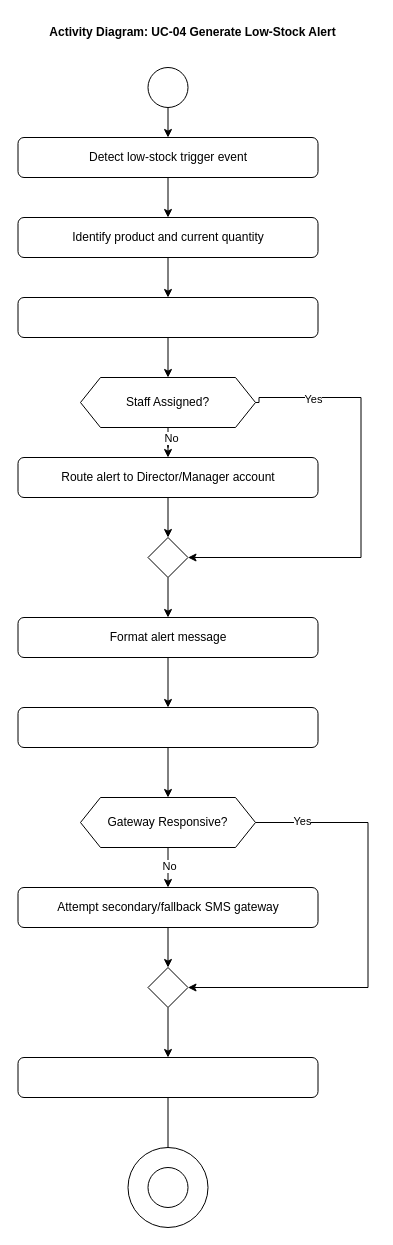
Some shapes in this 393 by 1245 pixel diagram are drawn without their labels. Here are the shapes that lost their labels. From the top down, the box of each, then its label:
(17, 296, 318, 338): Query RBAC for Inventory Staff contact details
(17, 706, 318, 748): Push message to primary Email/SMS API gateway
(17, 1056, 318, 1098): Log alert transmission in database
